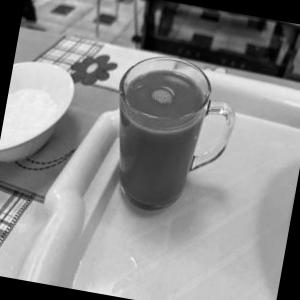coffee: (90, 41, 246, 232)
